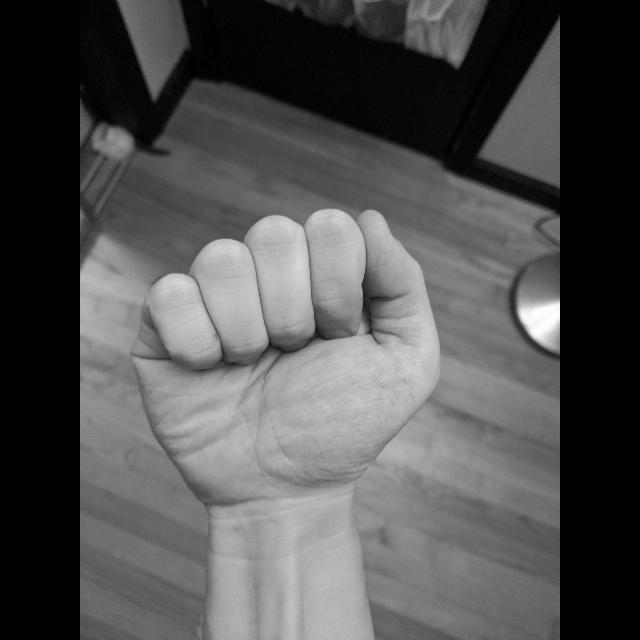A: (120, 197, 448, 519)
